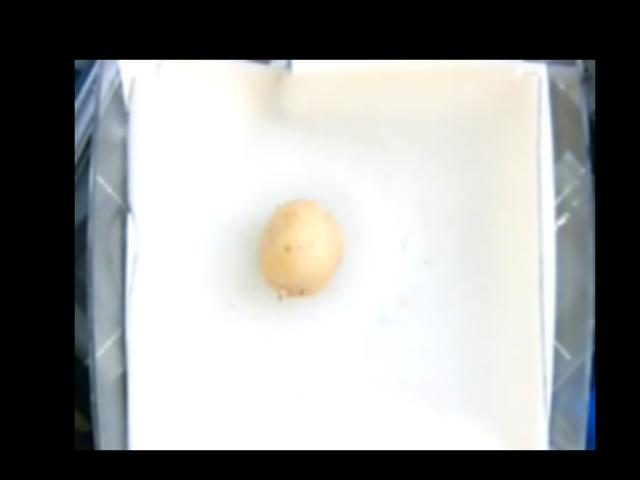Potato: (260, 202, 343, 302)
